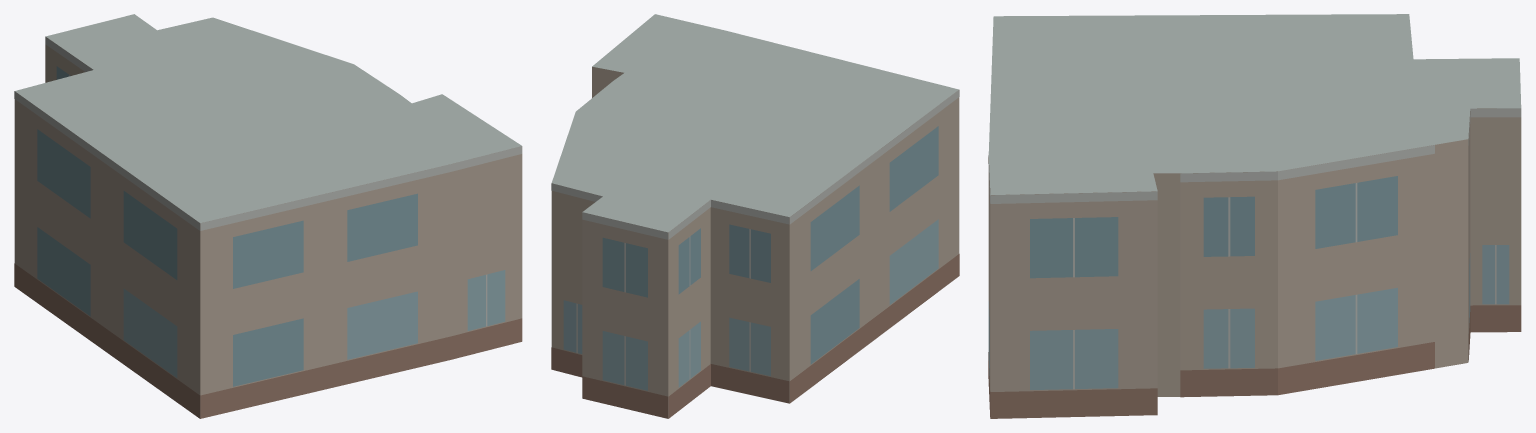
The model's file is survey-upis-32469572.glb.
The picture shows the model from 3 angles, left to right: view 1: azimuth 30°, elevation 25°; view 2: azimuth 150°, elevation 25°; view 3: azimuth 270°, elevation 25°; orthographic projection. The views are drawn at different scales.
Visible parts, largest first — view 1: survey-upis-32469572.tmp; view 2: survey-upis-32469572.tmp; view 3: survey-upis-32469572.tmp.
Part boxes in pixels (left/top/right/bottom): survey-upis-32469572.tmp: left=14, top=14, right=522, bottom=418; survey-upis-32469572.tmp: left=551, top=14, right=959, bottom=418; survey-upis-32469572.tmp: left=988, top=14, right=1521, bottom=418.
Bounding box in the file's own units: 10.6 × 6.1 × 13.17.
